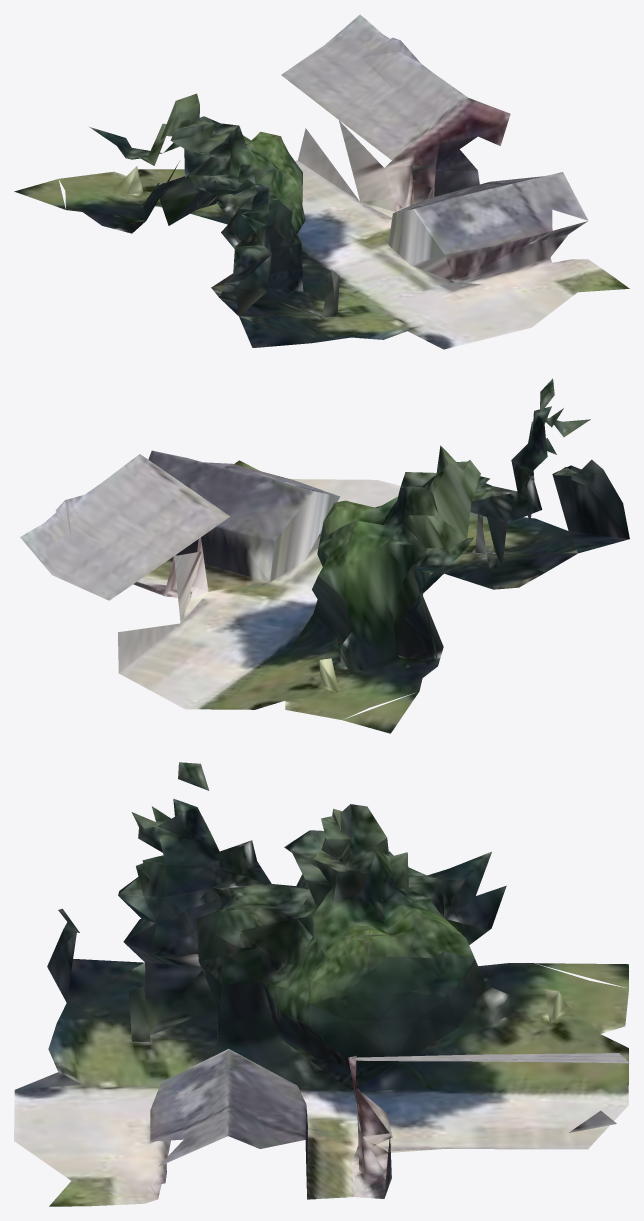
File: Tile_+000_+008_L17_00.glb
3 views of the same model, one above another, from view 1: azimuth 30°, elevation 25°; view 2: azimuth 150°, elevation 25°; view 3: azimuth 270°, elevation 25° (orthographic). The views are drawn at different scales.
Parts seen in each view (by area): view 1: rtc; view 2: rtc; view 3: rtc.
Part boxes in pixels (x1=…): rtc: x1=14, y1=14, x2=629, y2=349; rtc: x1=20, y1=378, x2=629, y2=733; rtc: x1=14, y1=762, x2=629, y2=1206.
Size of the model in its own units: 48.5 by 24.94 by 55.31.
Materials: 1 (1 with a texture image).
